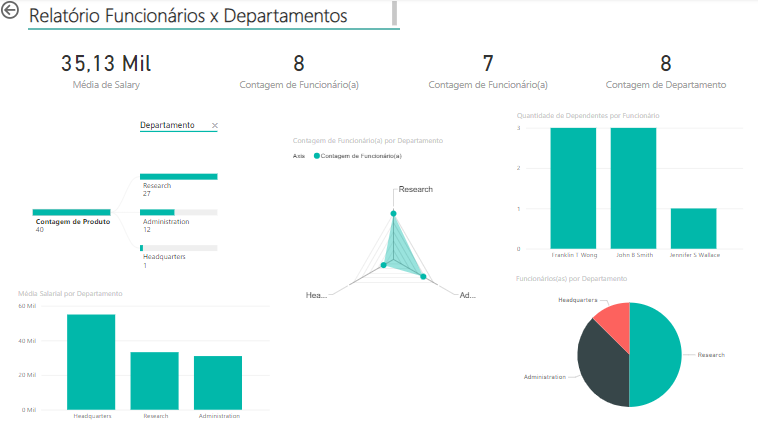

Layout of this report page (visuals, bound fields, positions):
{"tool":"powerbi","page":{"name":"Página 1","canvas":[1280,720],"ordinal":0},"visuals":[{"type":"clusteredColumnChart","title":"Média Salarial por Departamento","fields":{"Category":["Funcionários.Departamento"],"Y":["Funcionários.Salary"]},"box":[28.6,487.1,433.4,233.5],"z":0},{"type":"pieChart","title":"Funcionários(as) por Departamento","fields":{"Y":["Funcionários.Sex"],"Category":["Funcionários.Departamento"]},"box":[865.1,461.9,391.4,258.7],"z":1000},{"type":"clusteredColumnChart","title":"Quantidade de Dependentes por Funcionário","fields":{"Category":["Dependentes.Funcionário(a)"],"Y":["Dependentes.Sex"]},"box":[866.8,188.1,389.7,262],"z":2000},{"type":"card","fields":{"Values":["Funcionários.Salary"]},"box":[47,63.8,268.8,104.1],"z":3000},{"type":"card","fields":{"Values":["Funcionários.Funcionário(a)"]},"box":[371.2,63.8,268.8,104.1],"z":4000},{"type":"card","fields":{"Values":["Dependentes.Funcionário(a)"]},"box":[688.7,63.8,268.8,104.1],"z":5000},{"type":"actionButton","box":[0,0,100,40],"z":6000},{"type":"card","fields":{"Values":["Funcionários.Departamento"]},"box":[987.7,63.8,268.8,104.1],"z":7000},{"type":"decompositionTreeVisual","fields":{"ExplainBy":["Projeto.Departamento"],"Analyze":["Projeto.Produto"]},"box":[28.6,188.1,433.4,273.8],"z":8000},{"type":"RadarChart1446119667547","fields":{"Category":["Funcionários.Departamento"],"Y":["Funcionários.Funcionário(a)"]},"box":[490.5,230.1,347.7,374.6],"z":9000},{"type":"textbox","box":[47,0,628.2,52.1],"z":10000},{"type":"shape","box":[50.4,18.5,624.9,67.2],"z":10001}]}

Visuals, with their boxes on the page's 1280x720 design canvas (x1, y1, x2, y2). These are canvas units, not pixel positions in the 758x423 screenshot, which may show the page scaled, cropped or inside an application window:
"Média Salarial por Departamento" clusteredColumnChart: (x1=29, y1=487, x2=462, y2=721)
"Funcionários(as) por Departamento" pieChart: (x1=865, y1=462, x2=1256, y2=721)
"Quantidade de Dependentes por Funcionário" clusteredColumnChart: (x1=867, y1=188, x2=1256, y2=450)
card - Funcionários.Salary: (x1=47, y1=64, x2=316, y2=168)
card - Funcionários.Funcionário(a): (x1=371, y1=64, x2=640, y2=168)
card - Dependentes.Funcionário(a): (x1=689, y1=64, x2=958, y2=168)
actionButton: (x1=0, y1=0, x2=100, y2=40)
card - Funcionários.Departamento: (x1=988, y1=64, x2=1256, y2=168)
decompositionTreeVisual - Projeto.Departamento x Projeto.Produto: (x1=29, y1=188, x2=462, y2=462)
RadarChart1446119667547 - Funcionários.Departamento x Funcionários.Funcionário(a): (x1=490, y1=230, x2=838, y2=605)
textbox: (x1=47, y1=0, x2=675, y2=52)
shape: (x1=50, y1=18, x2=675, y2=86)
